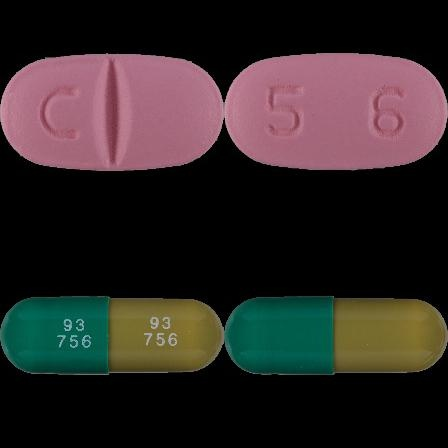16590-181: (0, 0, 224, 224)
